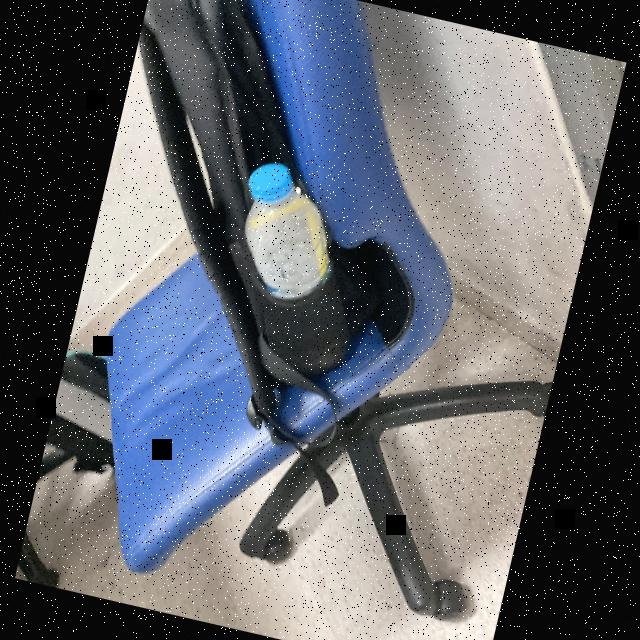plastic_bottle: (221, 152, 359, 314)
plastic_bottle_cap: (243, 155, 297, 205)
straw: (242, 182, 339, 276)
